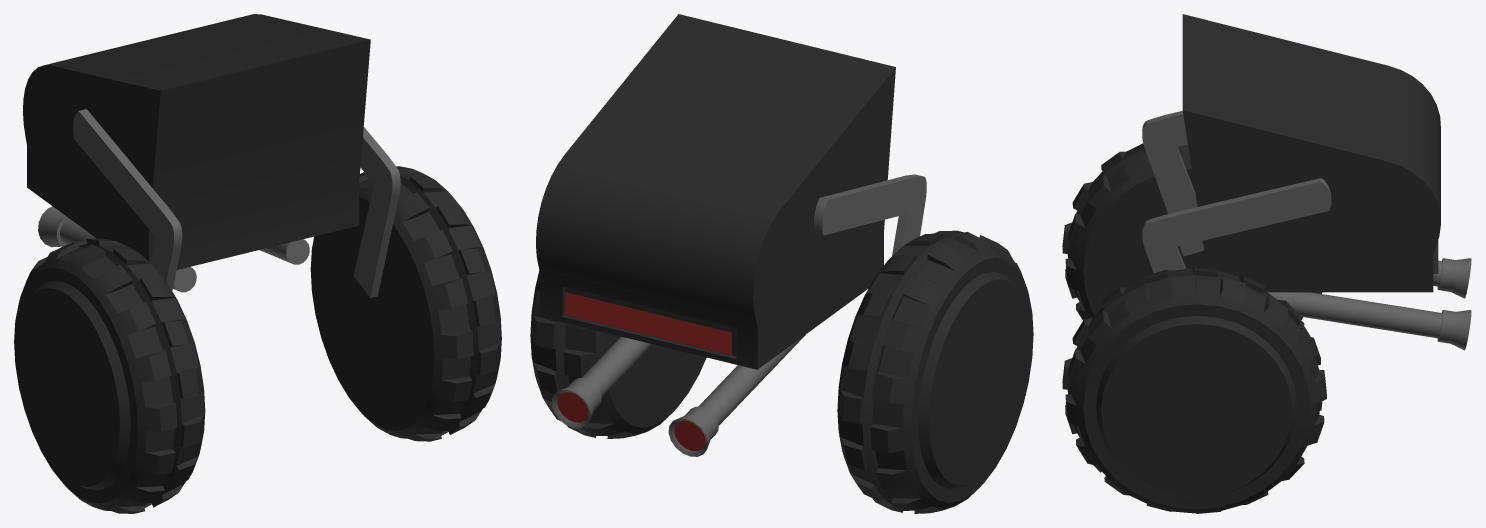
Rendered from rolling_unit_2.glb.
3 renders of one model, left to right at view 1: azimuth 30°, elevation 25°; view 2: azimuth 150°, elevation 25°; view 3: azimuth 270°, elevation 25°, orthographic. The views are drawn at different scales.
Parts seen in each view (by area): view 1: Body, Wheel Tread 1.013, Wheel Tread 1.010, Wheel Tread 1.014, Wheel Tread 1.009, Cube.006, Cube.004, Cylinder.040, Cube.003, Cube.005, Cylinder; view 2: Body, Wheel Tread 1.013, Wheel Tread 1.014, Wheel Tread 1.010, Front Panel, Cylinder.040, Cube.006, Cylinder, Wheel Tread 1.009, Cube.003; view 3: Body, Wheel Tread 1.009, Wheel Tread 1.014, Cube.005, Cylinder, Cube.003, Wheel Tread 1.010, Cube.004, Wheel Tread 1.013, Cylinder.040, Cube.006.
Part boxes in pixels (bbox=[...]): Body: bbox=[23, 14, 370, 269]; Wheel Tread 1.013: bbox=[14, 242, 177, 513]; Wheel Tread 1.010: bbox=[310, 172, 473, 441]; Wheel Tread 1.014: bbox=[71, 238, 205, 507]; Wheel Tread 1.009: bbox=[396, 166, 501, 435]; Cube.006: bbox=[73, 109, 169, 236]; Cube.004: bbox=[353, 156, 400, 297]; Cylinder.040: bbox=[38, 206, 196, 292]; Cube.003: bbox=[150, 209, 182, 290]; Cube.005: bbox=[360, 126, 387, 185]; Cylinder: bbox=[259, 239, 309, 264]; Body: bbox=[536, 14, 895, 369]; Wheel Tread 1.013: bbox=[870, 232, 1033, 513]; Wheel Tread 1.014: bbox=[837, 230, 963, 512]; Wheel Tread 1.010: bbox=[563, 323, 706, 438]; Front Panel: bbox=[562, 286, 737, 358]; Cylinder.040: bbox=[668, 334, 805, 456]; Cube.006: bbox=[814, 175, 913, 235]; Cylinder: bbox=[551, 336, 651, 428]; Wheel Tread 1.009: bbox=[530, 271, 596, 437]; Cube.003: bbox=[892, 174, 926, 255]; Body: bbox=[1182, 14, 1440, 292]; Wheel Tread 1.009: bbox=[1065, 275, 1326, 513]; Wheel Tread 1.014: bbox=[1065, 144, 1322, 328]; Cube.005: bbox=[1165, 178, 1331, 246]; Cylinder: bbox=[1268, 292, 1471, 350]; Cube.003: bbox=[1142, 115, 1203, 256]; Wheel Tread 1.010: bbox=[1062, 267, 1322, 472]; Cube.004: bbox=[1142, 215, 1185, 272]; Wheel Tread 1.013: bbox=[1062, 143, 1144, 301]; Cylinder.040: bbox=[1433, 258, 1471, 298]; Cube.006: bbox=[1165, 111, 1187, 146].
Size of the model in its own units: 0.47 by 0.4744 by 0.4627.
